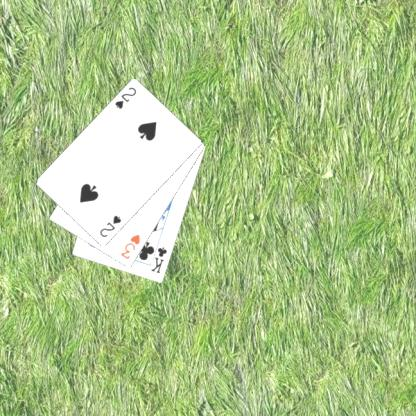2S: (97, 212, 123, 239), (112, 84, 138, 111)
3H: (118, 232, 142, 260)
KC: (147, 239, 168, 275)
